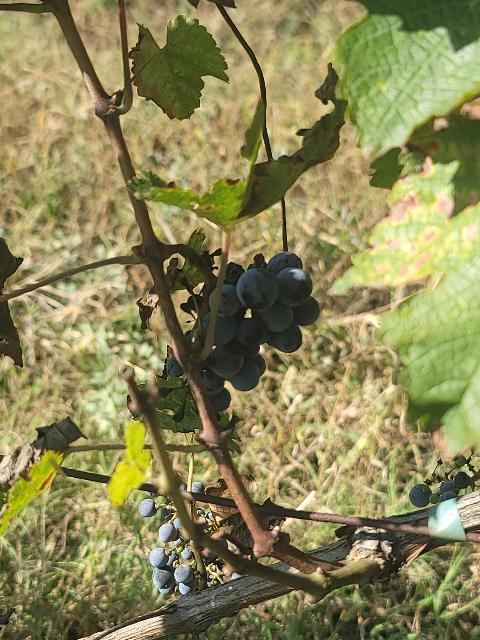grapes: (202, 251, 320, 412), (149, 505, 196, 595), (139, 498, 159, 518), (166, 358, 184, 378)
